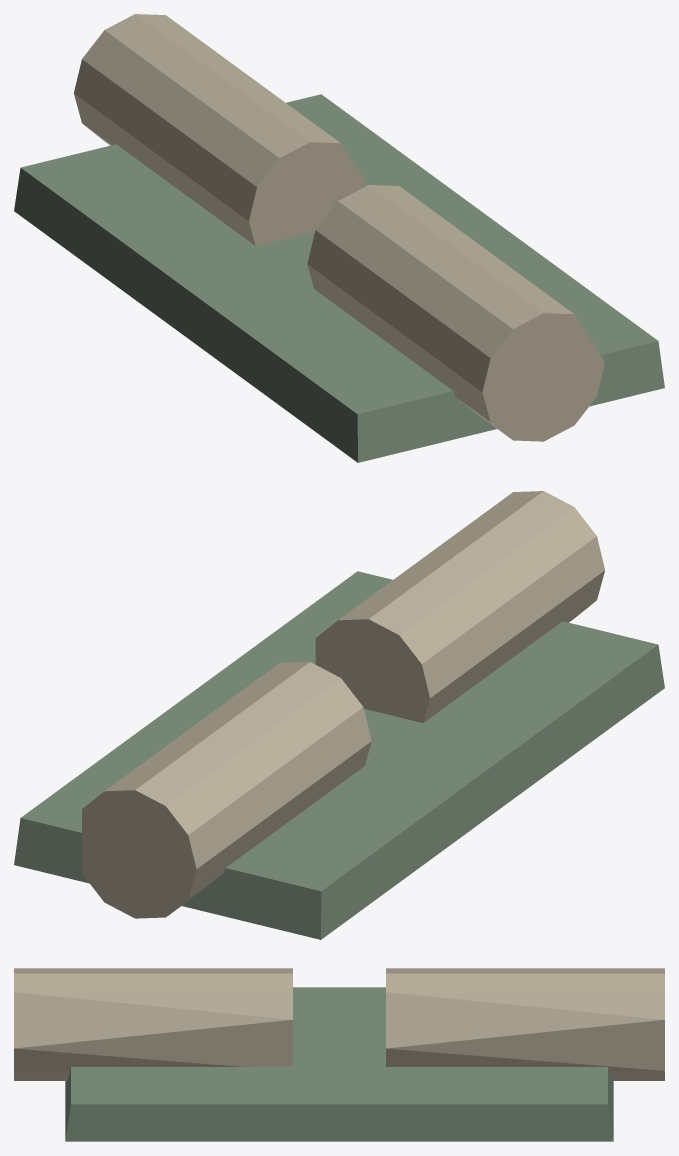
The model's file is bedroll_folded_optimized60.glb.
3 views of the same model, one above another, from view 1: azimuth 30°, elevation 25°; view 2: azimuth 150°, elevation 25°; view 3: azimuth 270°, elevation 25° (orthographic). The views are drawn at different scales.
Visible parts, largest first — view 1: part_0, part_2, part_1; view 2: part_0, part_1, part_2; view 3: part_0, part_1, part_2.
Boxes of the visible parts, left/top/right/bottom form: part_0: left=14, top=94, right=664, bottom=462; part_2: left=307, top=185, right=604, bottom=441; part_1: left=74, top=14, right=367, bottom=245; part_0: left=14, top=571, right=664, bottom=939; part_1: left=82, top=662, right=371, bottom=918; part_2: left=315, top=491, right=604, bottom=722; part_0: left=65, top=987, right=613, bottom=1141; part_1: left=386, top=968, right=664, bottom=1080; part_2: left=14, top=968, right=292, bottom=1080.
Bounding box in the file's own units: 0.85 × 0.36 × 1.96.
